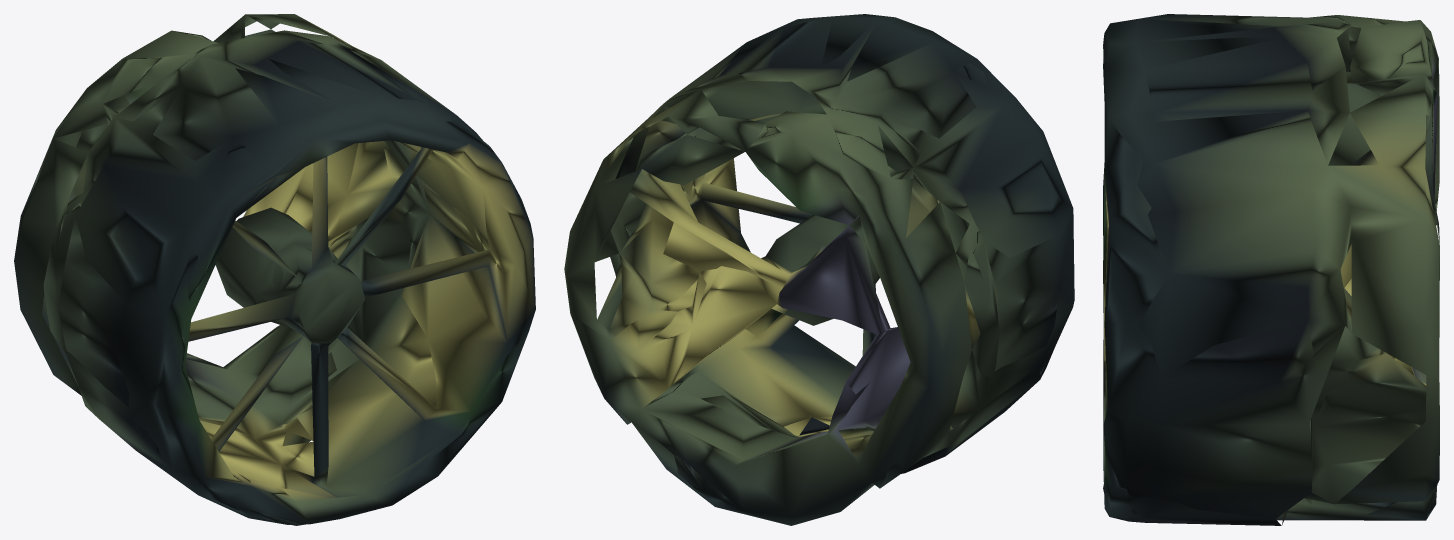
File: gen3d-hamster-wheel-lod1.glb
3 renders of one model, left to right at view 1: azimuth 30°, elevation 25°; view 2: azimuth 150°, elevation 25°; view 3: azimuth 270°, elevation 25°, orthographic. The views are drawn at different scales.
Visible parts, largest first — view 1: part_0; view 2: part_0; view 3: part_0.
Boxes of the visible parts, x1,y1,x2,y2 form: part_0: (14, 14, 535, 525); part_0: (564, 14, 1074, 525); part_0: (1103, 14, 1439, 525).
Bounding box in the file's own units: 1.01 × 0.9977 × 0.6525.
